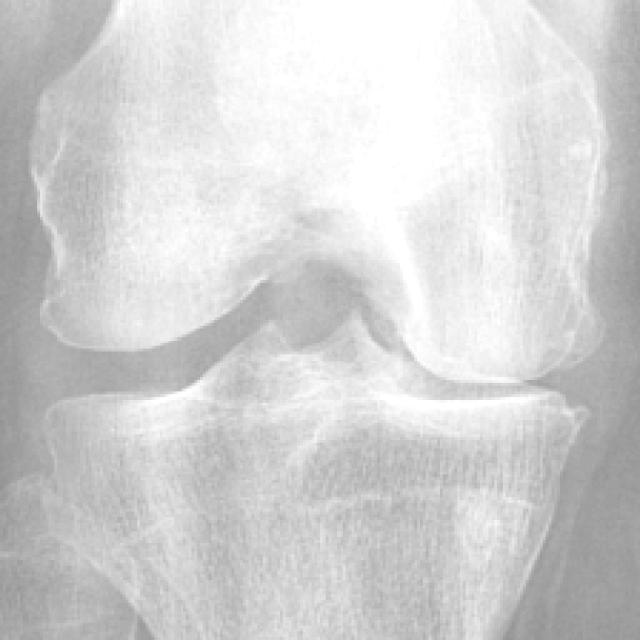femur: (30, 0, 611, 386)
tibia: (48, 342, 578, 640)
